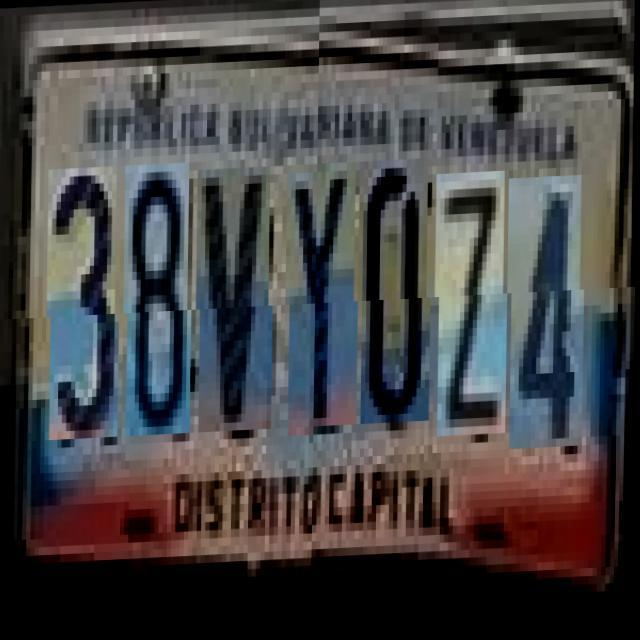0: (362, 171, 434, 436)
3: (50, 167, 122, 441)
4: (511, 189, 586, 463)
8: (128, 164, 195, 438)
V: (200, 170, 276, 434)
Y: (289, 174, 361, 439)
Z: (438, 184, 510, 450)
